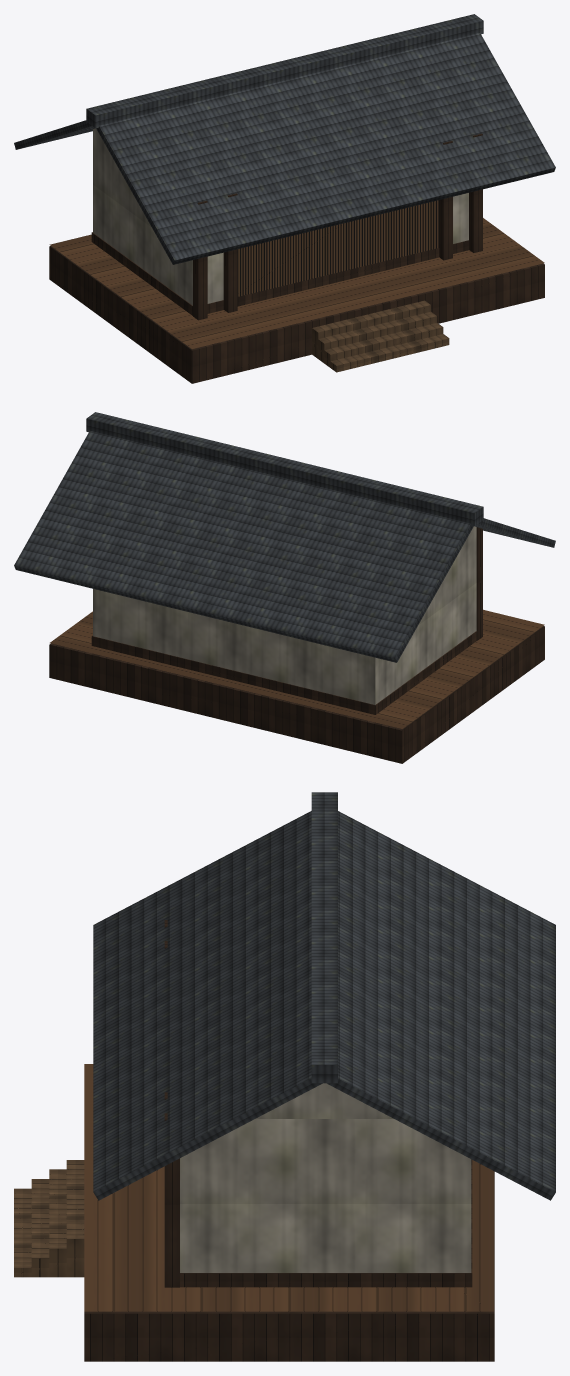
The model's file is haiden.glb.
3 renders of one model, top to bottom at view 1: azimuth 30°, elevation 25°; view 2: azimuth 150°, elevation 25°; view 3: azimuth 270°, elevation 25°, orthographic. The views are drawn at different scales.
Visible parts, largest first — view 1: haiden; view 2: haiden; view 3: haiden.
Boxes of the visible parts, bbox=[...] form: haiden: bbox=[14, 14, 555, 383]; haiden: bbox=[14, 412, 555, 763]; haiden: bbox=[14, 792, 555, 1361].
Size of the model in its own units: 11 by 5.82 by 9.24.
Materials: 7 (7 with a texture image).
